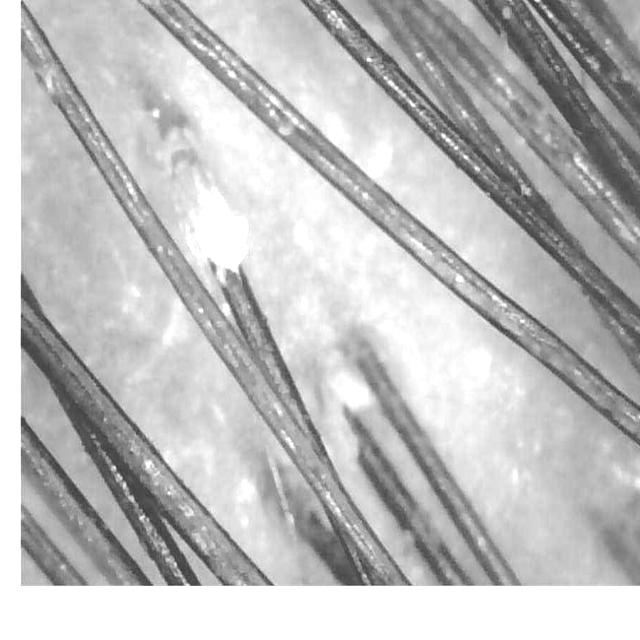d: (135, 66, 248, 272), (308, 384, 356, 466), (330, 370, 376, 411)
